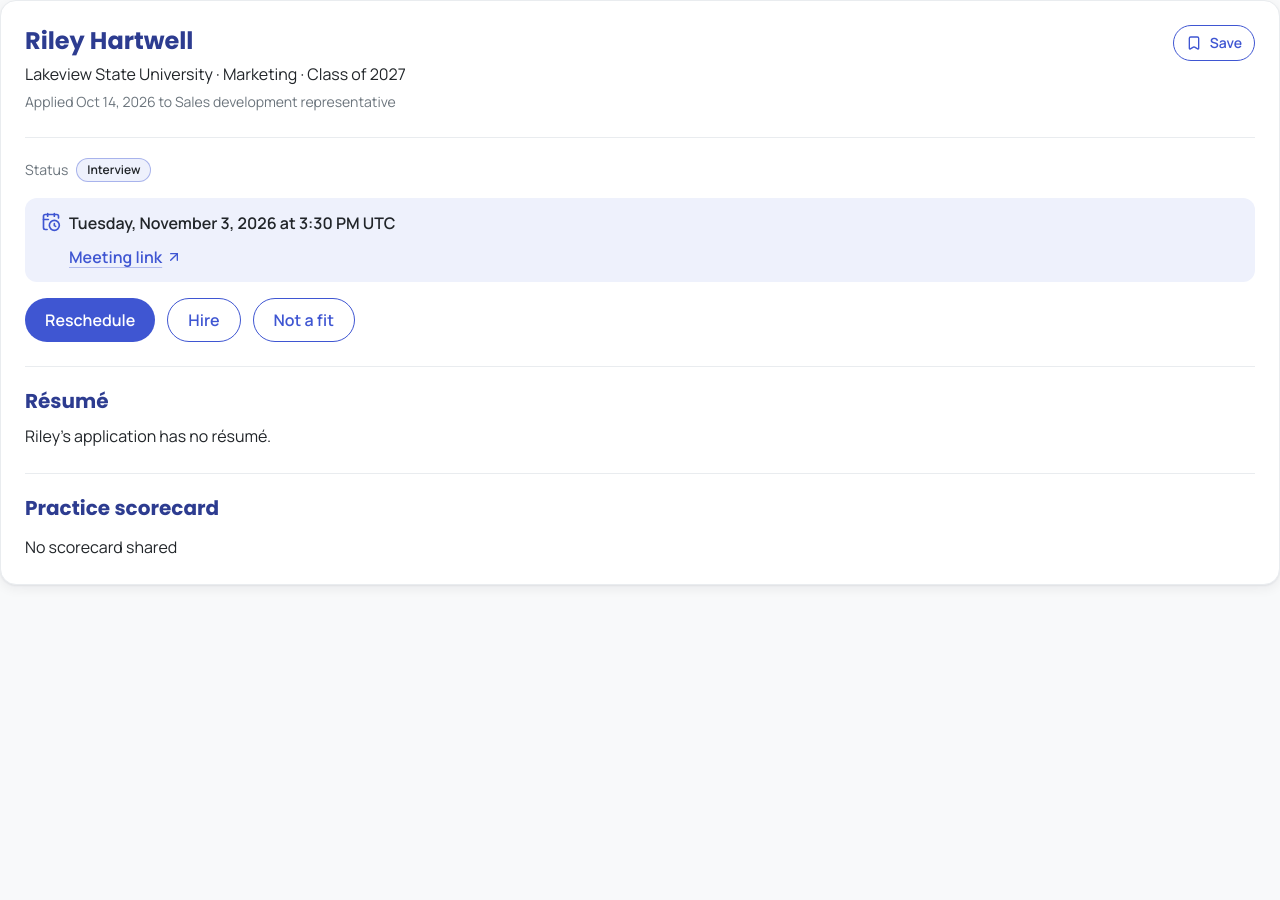
Test: ApplicantDrawer after a move › does the same after hiring
This screenshot has width=1280, height=900.
Click the button "Hire". click: (204, 320)
box: [167, 298, 241, 342]
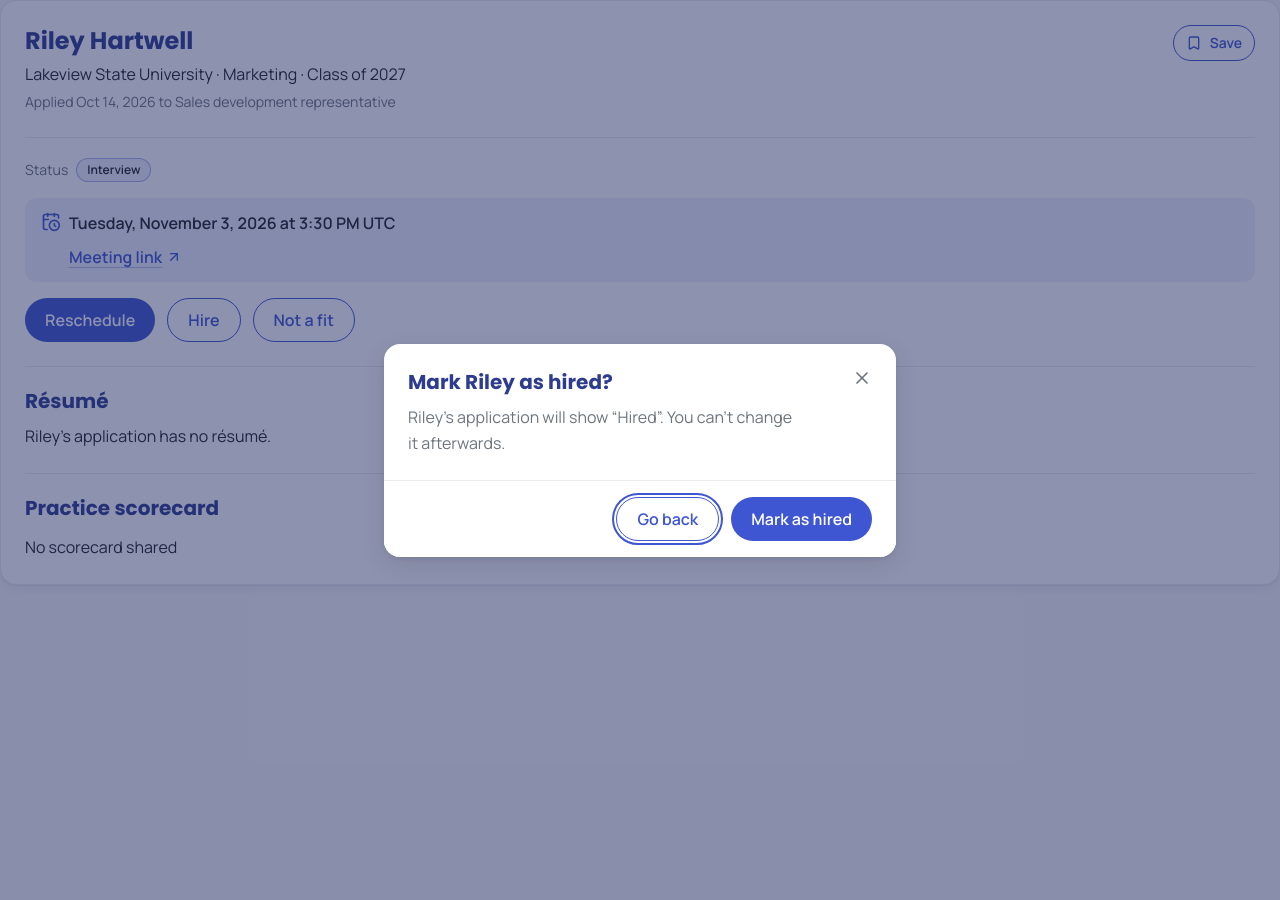
Click the button "Mark as hired". click: (802, 518)
box: [731, 496, 872, 540]
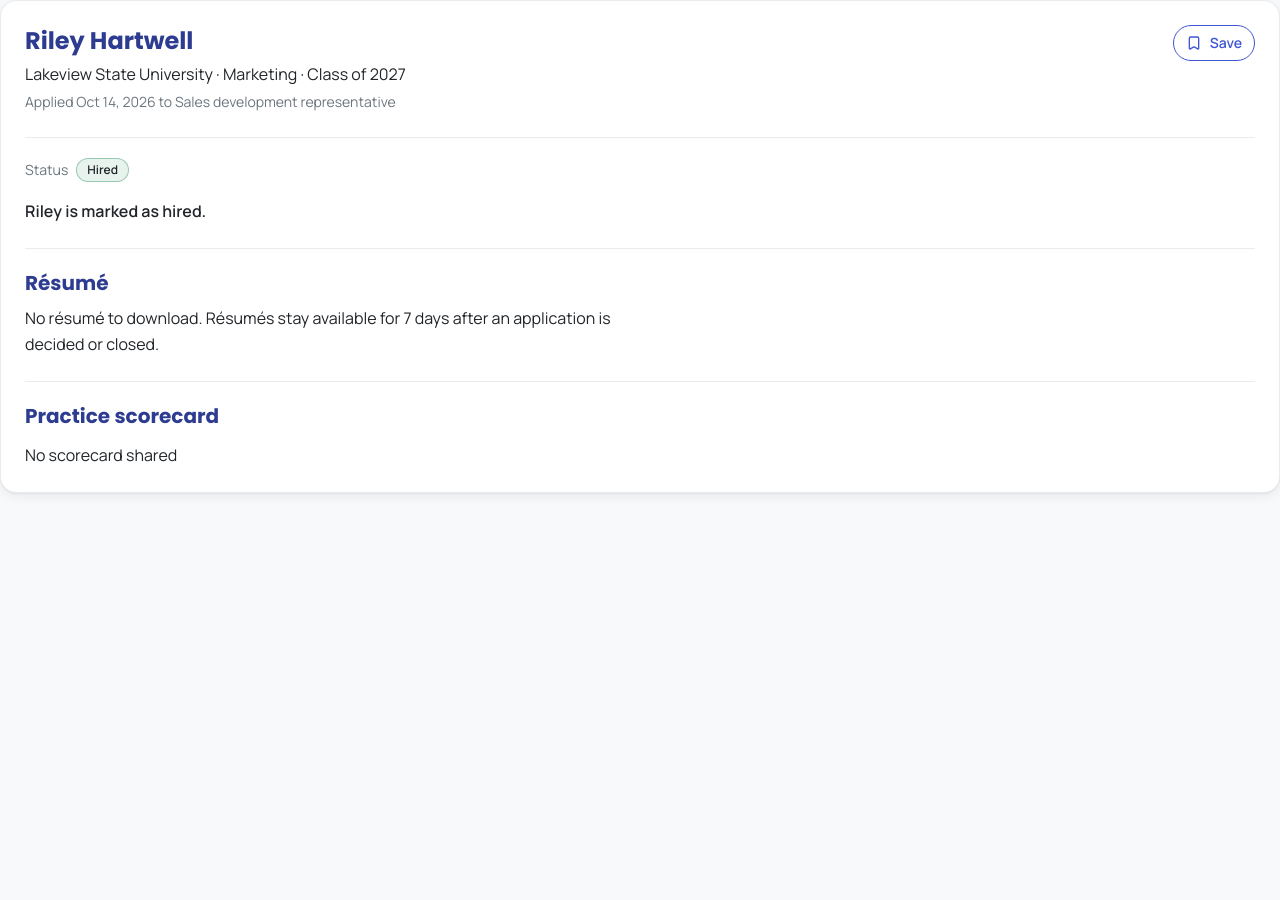
Check: the message reads "Riley is marked as hired.", box [25, 200, 206, 222]
